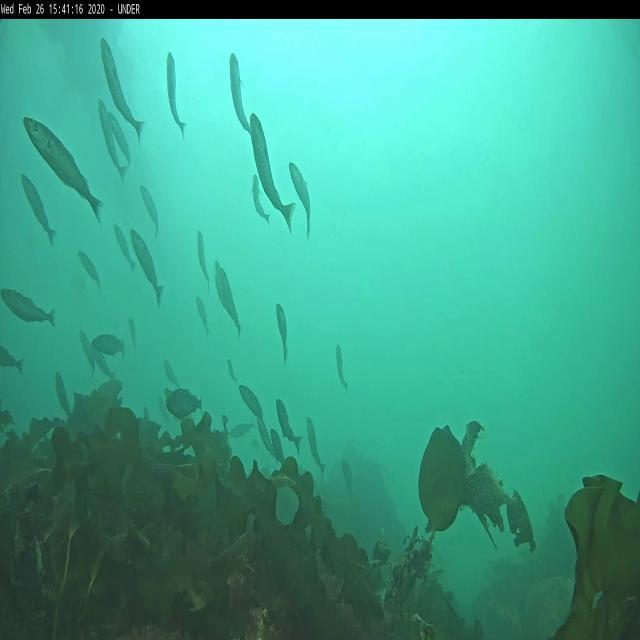fish: (24, 117, 104, 223), (248, 114, 295, 231), (101, 38, 145, 143), (18, 173, 60, 244), (129, 230, 164, 302), (2, 286, 56, 326), (96, 108, 124, 180), (289, 160, 313, 242), (166, 51, 188, 138), (228, 52, 251, 126), (218, 270, 244, 331), (110, 115, 138, 170), (306, 413, 326, 472), (278, 396, 300, 448), (111, 226, 135, 268), (136, 188, 160, 230), (274, 305, 290, 362), (94, 332, 128, 358), (168, 392, 204, 416), (77, 248, 101, 283), (194, 221, 209, 277), (238, 384, 264, 416), (0, 344, 26, 376), (252, 178, 267, 223), (95, 358, 116, 387), (335, 344, 348, 387), (272, 430, 286, 468), (81, 336, 98, 366), (259, 420, 273, 452), (222, 355, 236, 383), (165, 364, 182, 387), (198, 298, 209, 327), (231, 424, 255, 436), (128, 318, 136, 350)
